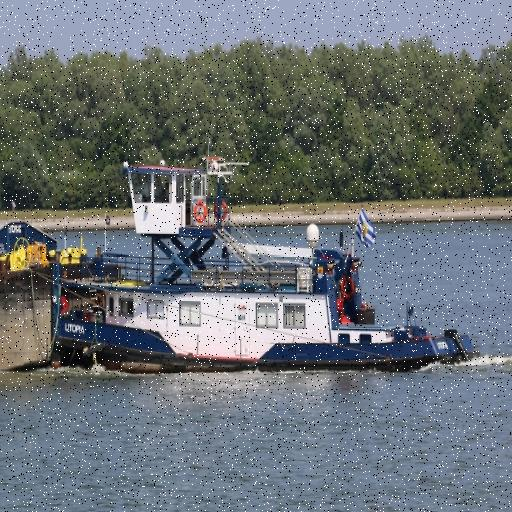tugboat: (43, 154, 490, 381)
